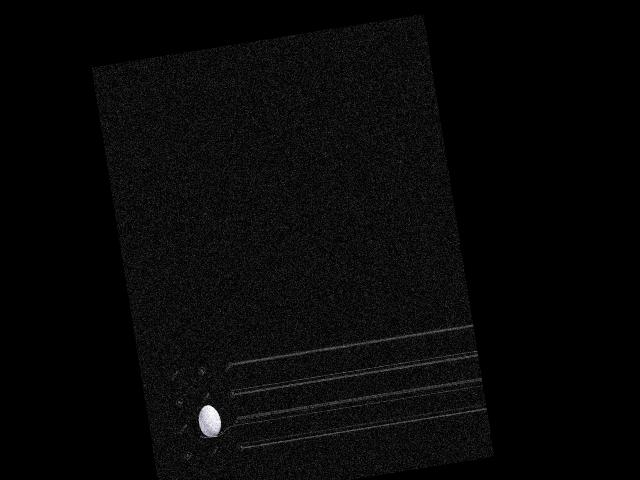egg: (196, 403, 223, 438)
